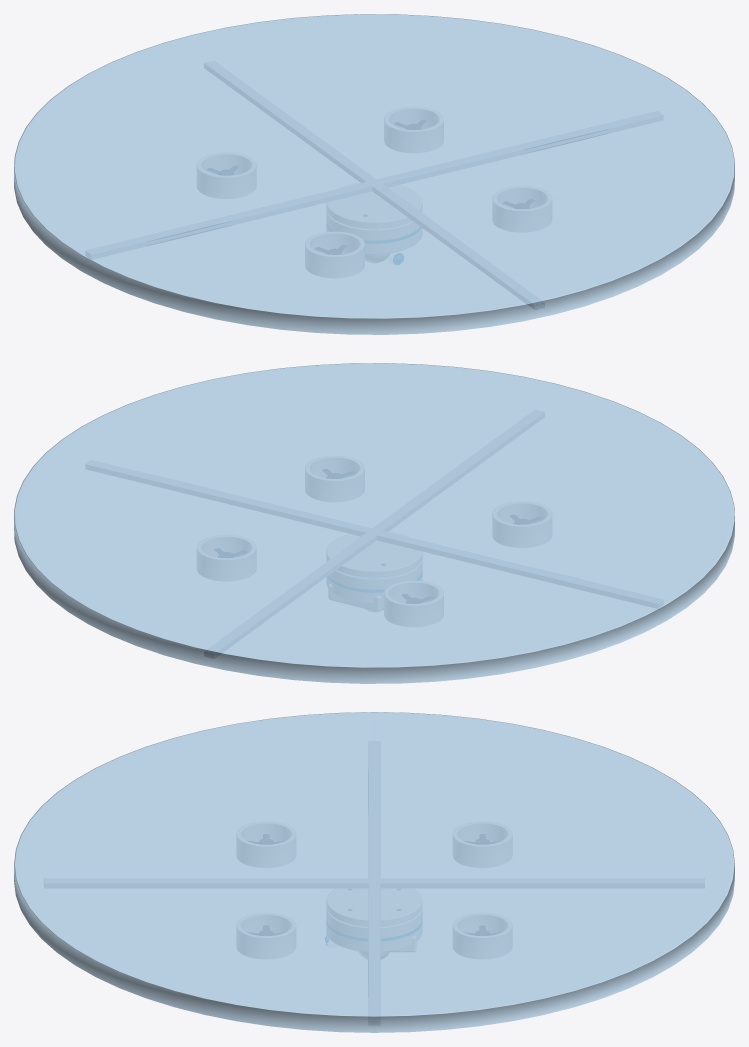
File: sample-r03.glb
3 renders of one model, top to bottom at view 1: azimuth 30°, elevation 25°; view 2: azimuth 150°, elevation 25°; view 3: azimuth 270°, elevation 25°, orthographic.
Parts seen in each view (by area): view 1: shade, rib-frame; view 2: shade, rib-frame; view 3: shade.
Boxes of the visible parts, <box> form: shade: <box>14,14,734,334</box>; rib-frame: <box>87,112,658,257</box>; shade: <box>14,363,734,683</box>; rib-frame: <box>86,463,662,607</box>; shade: <box>14,712,734,1032</box>.
Bounding box in the file's own units: 1.2 × 0.175 × 1.2.
